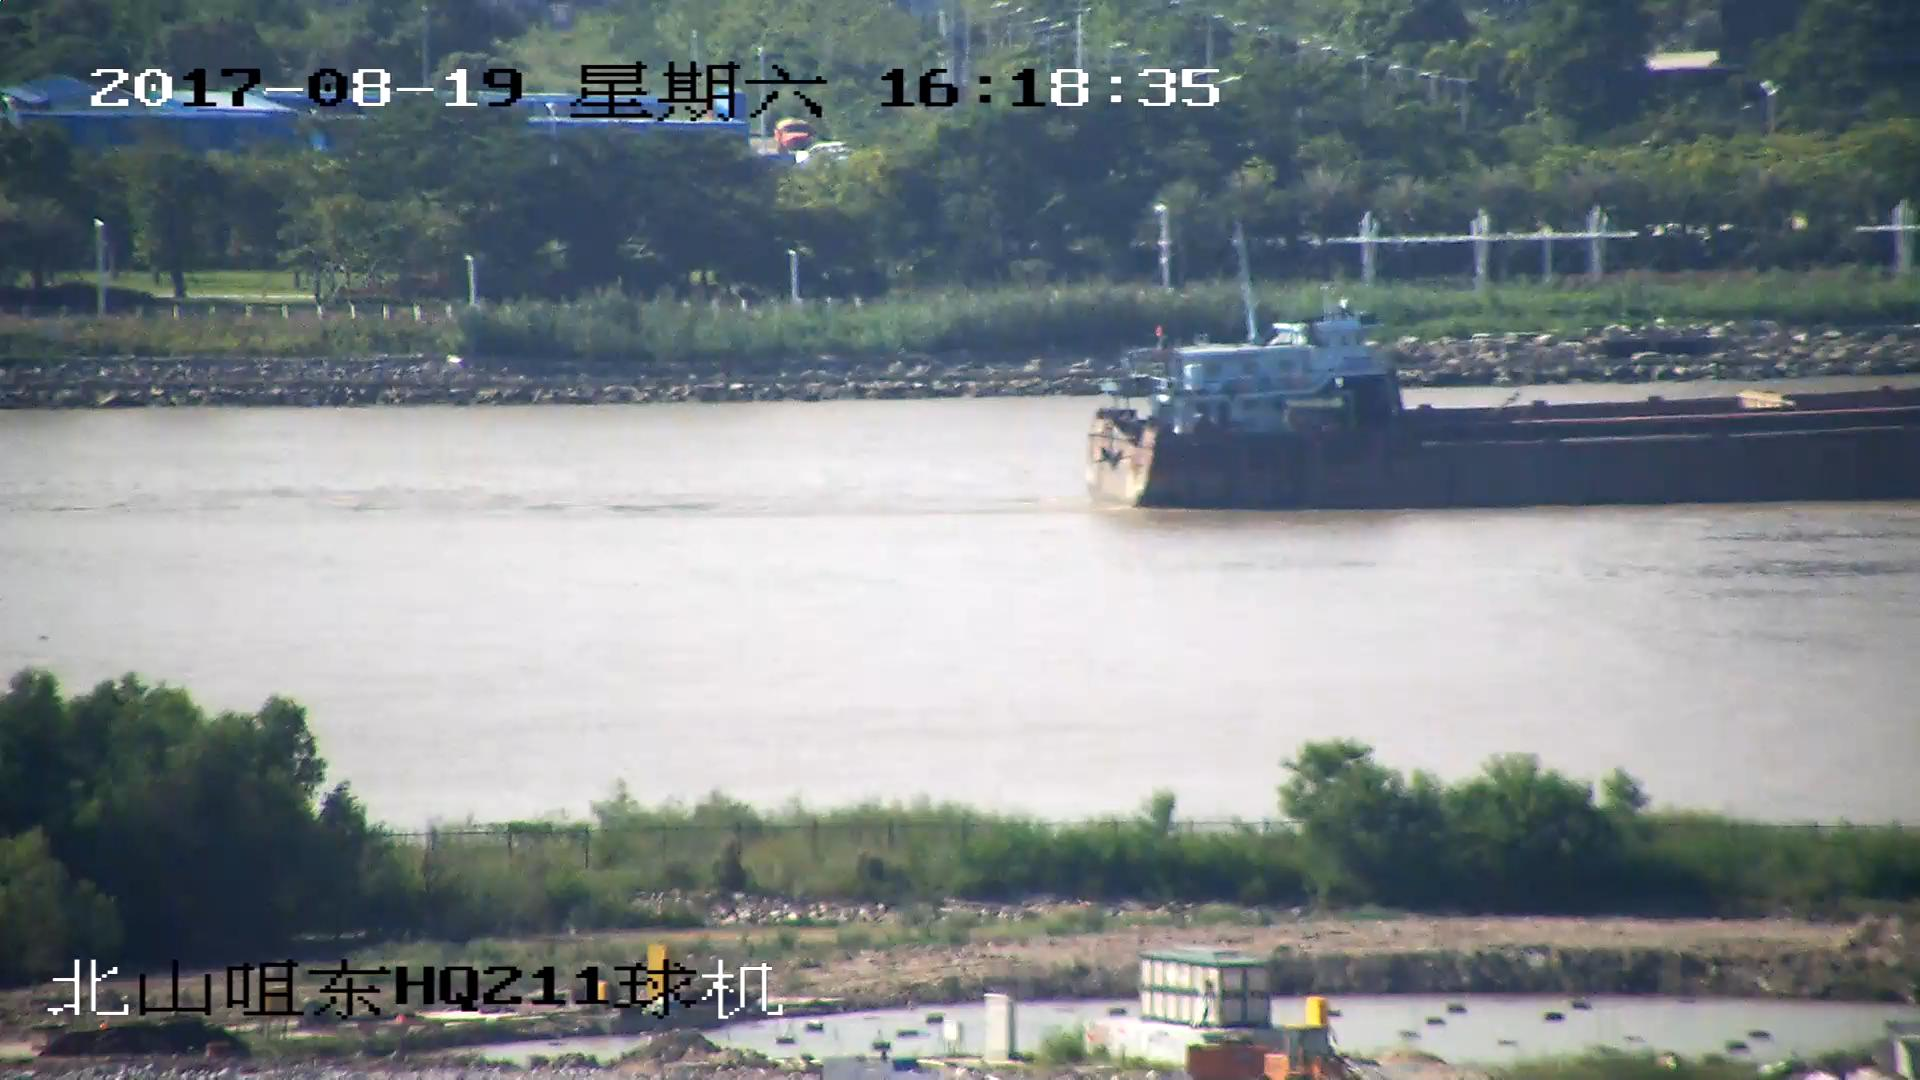bulk cargo carrier: (1082, 309, 1920, 514)
